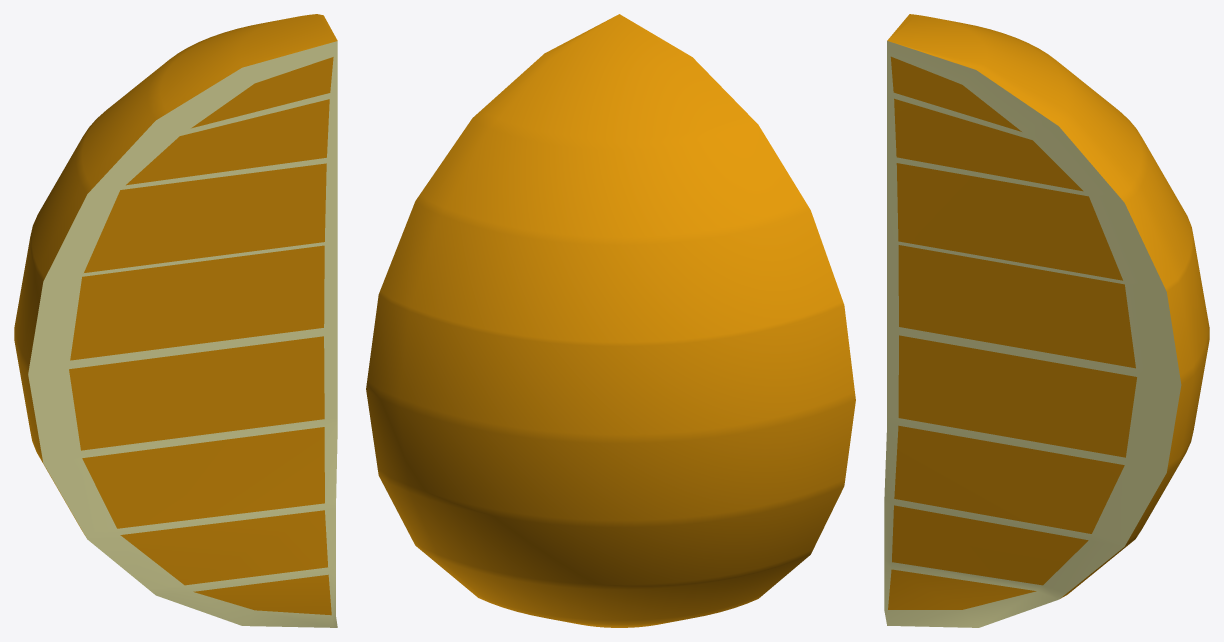
File: quart_citron_jaune.FBX
The picture shows the model from 3 angles, left to right: view 1: azimuth 30°, elevation 25°; view 2: azimuth 150°, elevation 25°; view 3: azimuth 270°, elevation 25°; orthographic projection.
Parts seen in each view (by area): view 1: Quart_Citron_J; view 2: Quart_Citron_J; view 3: Quart_Citron_J.
Boxes of the visible parts, x1,y1,x2,y2 form: Quart_Citron_J: (14,14,337,627); Quart_Citron_J: (366,14,855,627); Quart_Citron_J: (884,14,1209,627).
Size of the model in its own units: 32.01 by 47.32 by 23.86.
